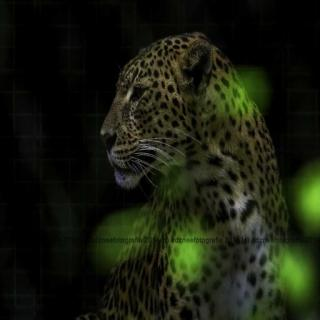Leopard: (98, 43, 320, 320)
